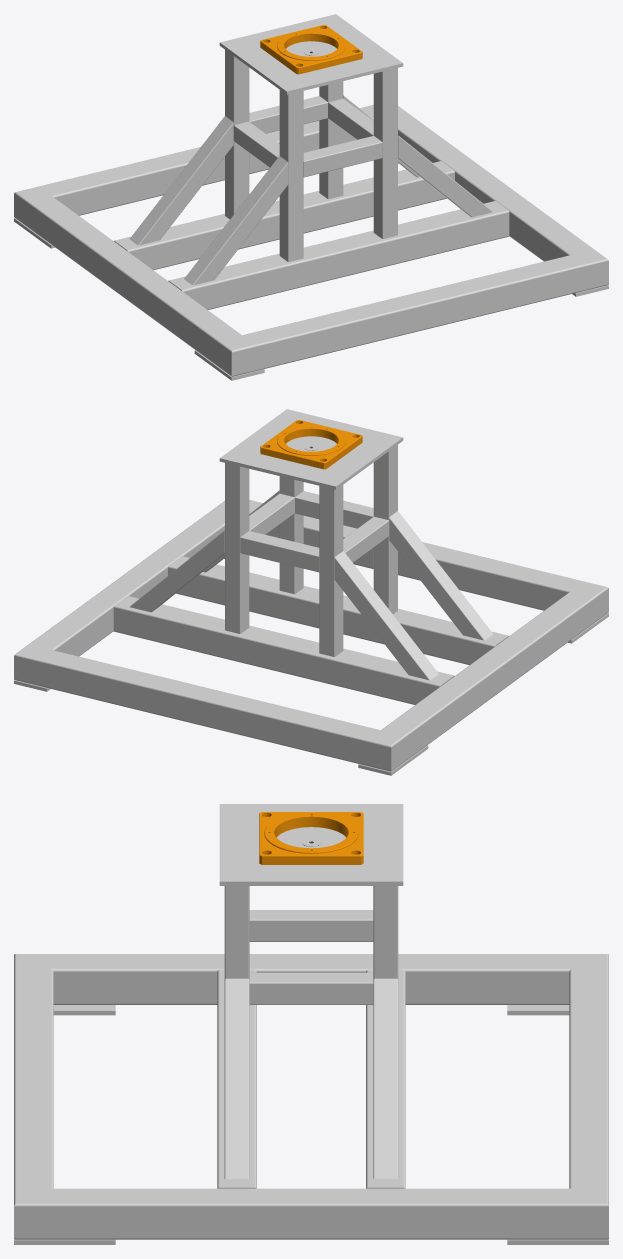
3 renders of one model, top to bottom at view 1: azimuth 30°, elevation 25°; view 2: azimuth 150°, elevation 25°; view 3: azimuth 270°, elevation 25°, orthographic. The views are drawn at different scales.
Parts seen in each view (by area): view 1: DI_ZUO_8_8_2_1 (×4), DI_ZUO_8_1_1 (×2), ZHI_JIA_5_5_1 (×4), ZHI_JIA_5_2_1 (×3), BAN_1_1, ZHI_JIA_5_1_1 (×4), UR10_base; view 2: DI_ZUO_8_8_2_1 (×4), DI_ZUO_8_1_1 (×2), ZHI_JIA_5_5_1 (×4), ZHI_JIA_5_2_1 (×3), BAN_1_1, ZHI_JIA_5_1_1 (×4), UR10_base; view 3: DI_ZUO_8_8_2_1 (×4), BAN_1_1, ZHI_JIA_5_2_1 (×2), ZHI_JIA_5_1_1 (×2), DI_ZUO_8_1_1 (×2), ZHI_JIA_5_5_1 (×2), UR10_base, DI_DIAN_1 (×4).
Part boxes in pixels (<box>): DI_ZUO_8_8_2_1 (×4): <box>14,105,608,376</box>; DI_ZUO_8_1_1 (×2): <box>114,161,509,309</box>; ZHI_JIA_5_5_1 (×4): <box>225,50,397,261</box>; ZHI_JIA_5_2_1 (×3): <box>129,116,492,285</box>; BAN_1_1: <box>219,14,403,94</box>; ZHI_JIA_5_1_1 (×4): <box>233,96,382,177</box>; UR10_base: <box>260,25,362,74</box>; DI_ZUO_8_8_2_1 (×4): <box>14,500,608,771</box>; DI_ZUO_8_1_1 (×2): <box>113,556,508,704</box>; ZHI_JIA_5_5_1 (×4): <box>225,445,397,656</box>; ZHI_JIA_5_2_1 (×3): <box>130,511,493,680</box>; BAN_1_1: <box>219,409,403,489</box>; ZHI_JIA_5_1_1 (×4): <box>240,491,389,572</box>; UR10_base: <box>260,420,362,469</box>; DI_ZUO_8_8_2_1 (×4): <box>14,954,608,1239</box>; BAN_1_1: <box>219,804,403,885</box>; ZHI_JIA_5_2_1 (×2): <box>224,978,398,1178</box>; ZHI_JIA_5_1_1 (×2): <box>249,910,373,1004</box>; DI_ZUO_8_1_1 (×2): <box>217,969,405,1188</box>; ZHI_JIA_5_5_1 (×2): <box>224,886,398,979</box>; UR10_base: <box>259,812,363,864</box>; DI_DIAN_1 (×4): <box>14,1005,608,1244</box>.
Bounding box in the file's own units: 1200 × 1200 × 638.
